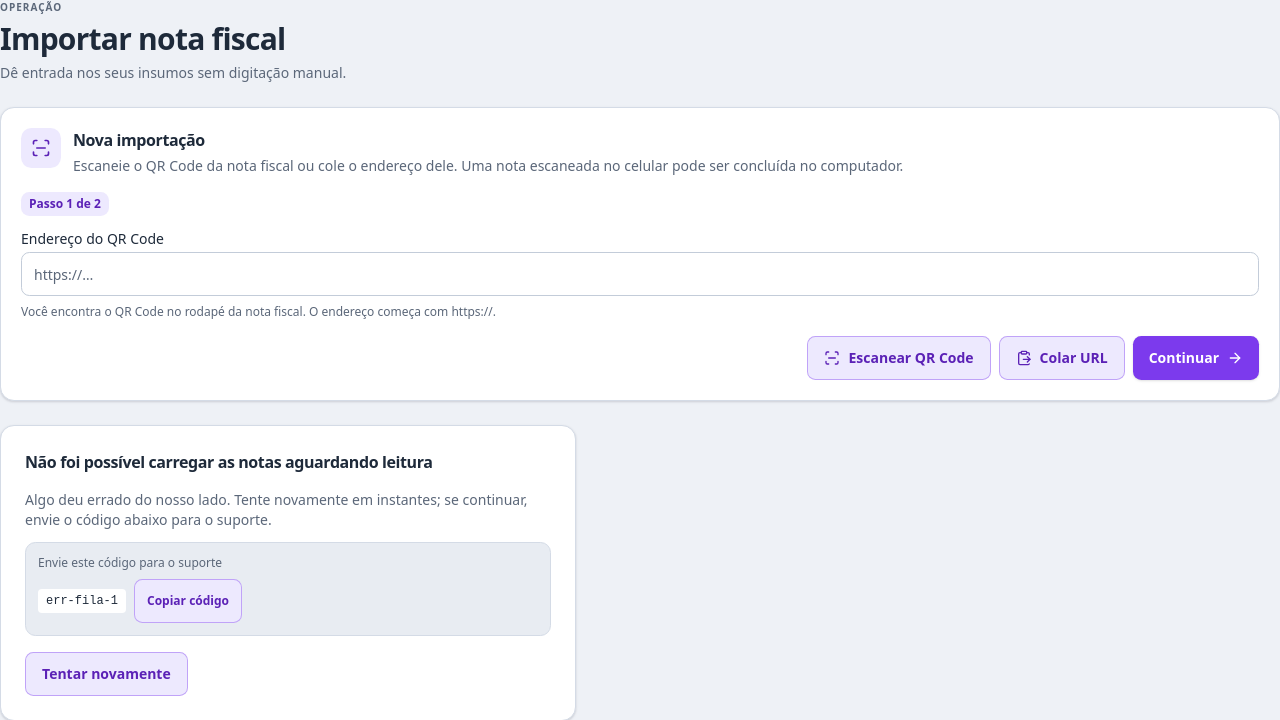
Scenario: the notes waiting to be read › shows the support code of an unexpected failure to read the queue, and tries again on request
Check: the heading "Não foi possível carregar as notas aguardando leitura" is shown, box [25,450,432,474]
Check: the text "err-fila-1" is shown, box [38,589,126,613]
Click the button "Tentar novamente": (106, 674) [25,652,188,696]
(page scrolled)
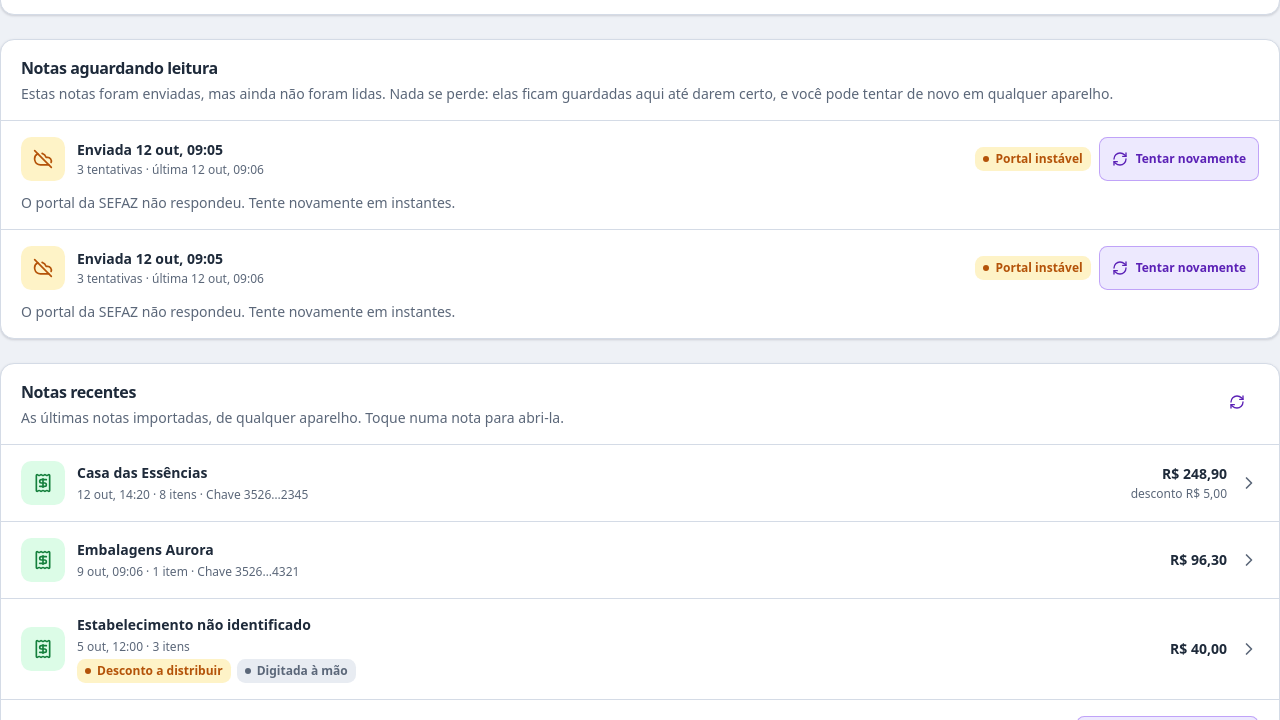
Check: the 1st list item is shown, box [1,121,1279,230]
